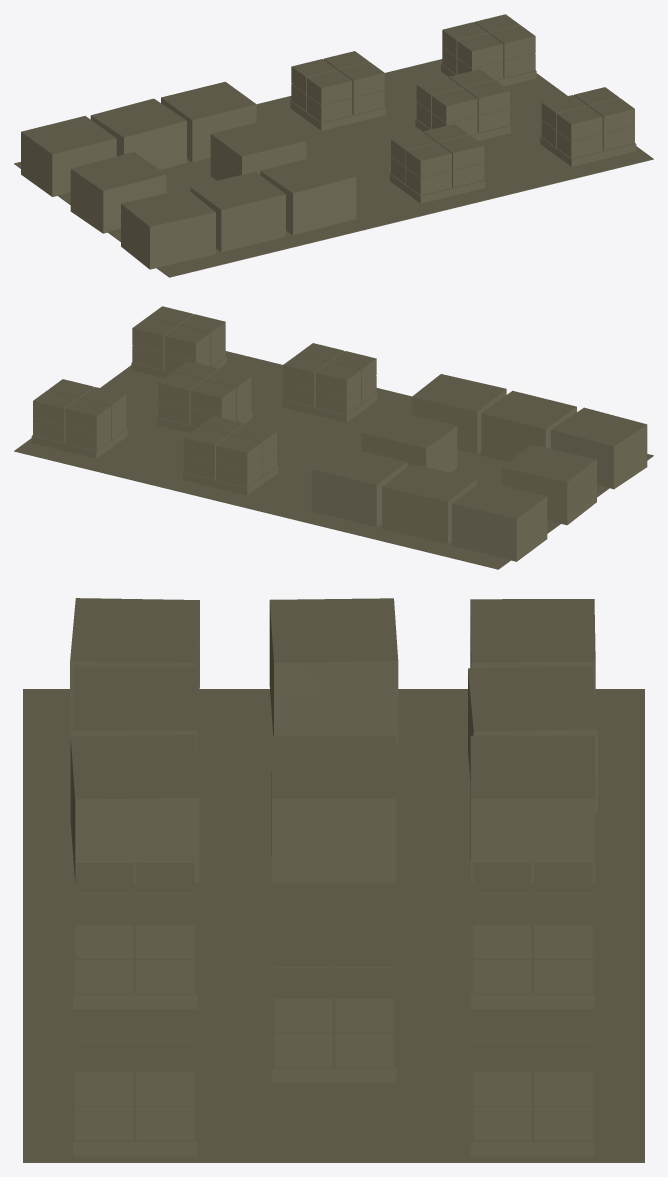
File: SM_AcopioViveres_v4_Quemado_LOD0.fbx
3 renders of one model, top to bottom at view 1: azimuth 30°, elevation 25°; view 2: azimuth 150°, elevation 25°; view 3: azimuth 270°, elevation 25°, orthographic. The views are drawn at different scales.
Parts seen in each view (by area): view 1: SM_acopio_viveres_v4_LOD0; view 2: SM_acopio_viveres_v4_LOD0; view 3: SM_acopio_viveres_v4_LOD0.
Boxes of the visible parts, x1,y1,x2,y2 form: SM_acopio_viveres_v4_LOD0: (14,14,653,277); SM_acopio_viveres_v4_LOD0: (14,306,653,569); SM_acopio_viveres_v4_LOD0: (23,598,644,1162).
Size of the model in its own units: 9.12 by 0.76 by 5.
